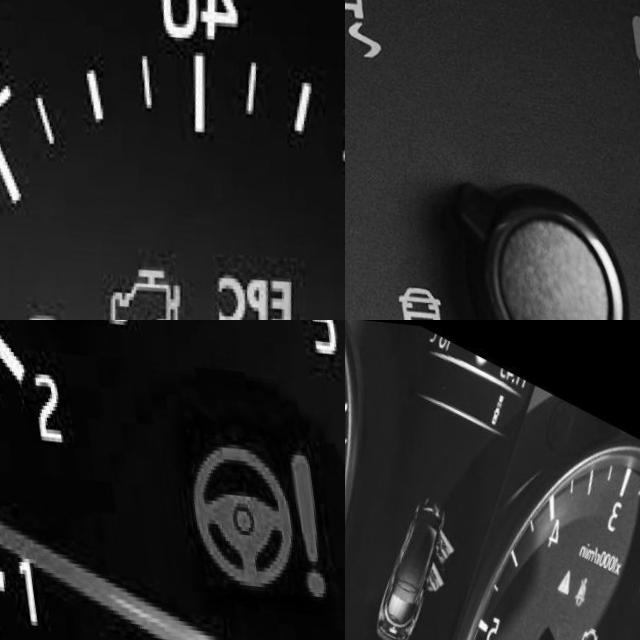Electronic Power Steering: (177, 430, 319, 590)
Seat Belt: (564, 563, 589, 598)
